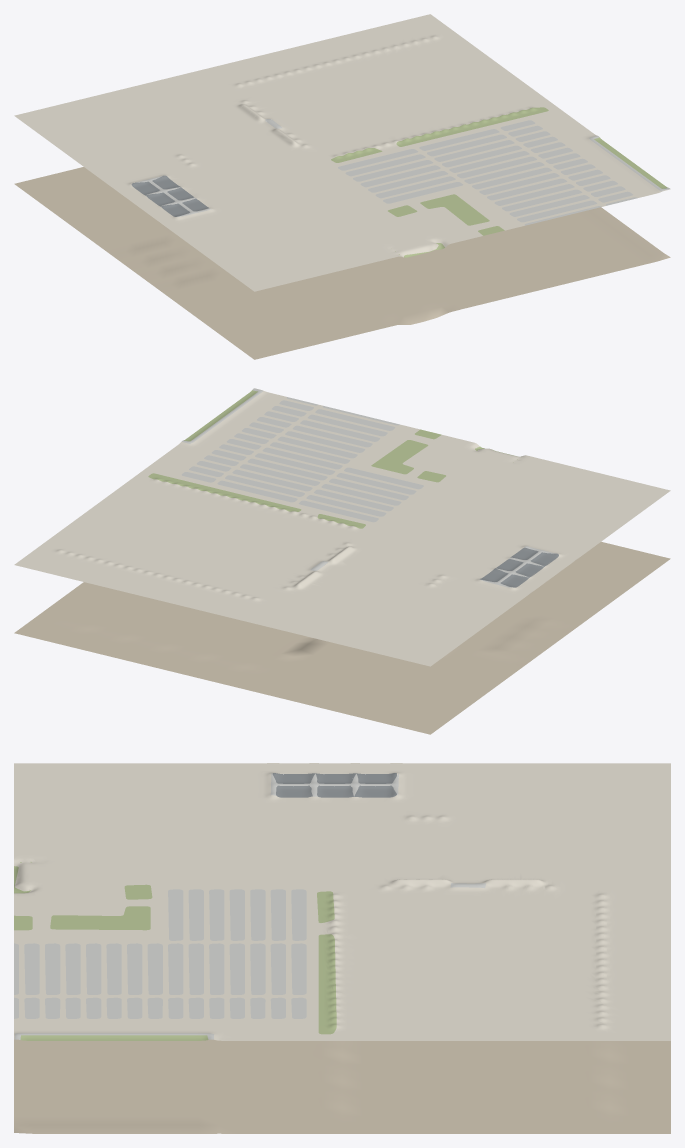
The picture shows the model from 3 angles, top to bottom: view 1: azimuth 30°, elevation 25°; view 2: azimuth 150°, elevation 25°; view 3: azimuth 270°, elevation 25°; orthographic projection. The views are drawn at different scales.
Parts seen in each view (by area): view 1: s_-2_2__paving, s_-2_2__soil, s_-2_2__stone_paving, s_-2_2__grass, s_-2_2__asphalt; view 2: s_-2_2__paving, s_-2_2__soil, s_-2_2__stone_paving, s_-2_2__grass, s_-2_2__asphalt; view 3: s_-2_2__paving, s_-2_2__soil, s_-2_2__stone_paving, s_-2_2__grass, s_-2_2__asphalt.
Part boxes in pixels (x1,y1,x2,y2): s_-2_2__paving: (14,14,670,291); s_-2_2__soil: (14,167,670,359); s_-2_2__stone_paving: (133,119,670,225); s_-2_2__grass: (331,107,668,257); s_-2_2__asphalt: (131,175,208,216); s_-2_2__paving: (14,388,670,666); s_-2_2__soil: (14,499,670,734); s_-2_2__stone_paving: (181,388,556,587); s_-2_2__grass: (148,390,517,528); s_-2_2__asphalt: (480,547,558,587); s_-2_2__paving: (14,763,670,1040); s_-2_2__soil: (14,1039,670,1133); s_-2_2__stone_paving: (14,773,485,1039); s_-2_2__grass: (14,862,336,1040); s_-2_2__asphalt: (272,773,396,797).
Size of the model in its own units: 128 by 21.81 by 128.
